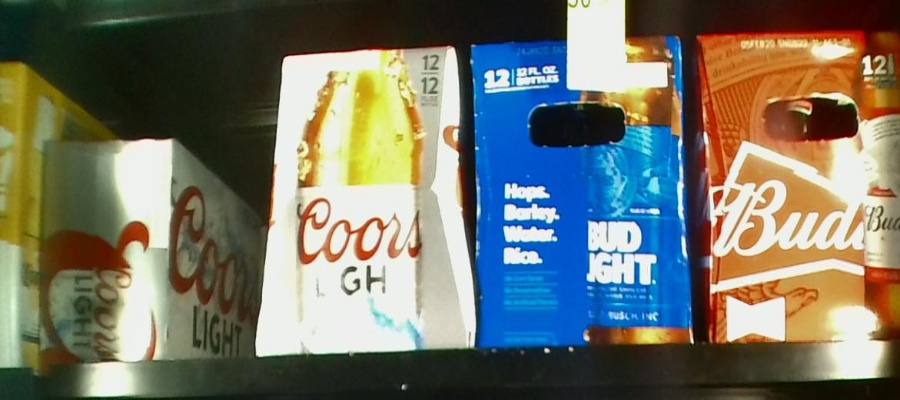bottle: (470, 43, 692, 347), (697, 35, 900, 345), (274, 56, 465, 356), (39, 150, 257, 354)
